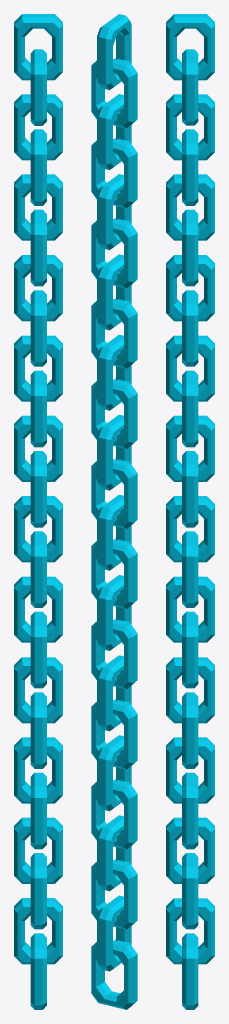
Rendered from chain.fbx.
3 renders of one model, left to right at view 1: azimuth 90°, elevation 25°; view 2: azimuth 150°, elevation 25°; view 3: azimuth 270°, elevation 25°, orthographic.
Parts seen in each view (by area): view 1: c022_low, c002_low, c003_low, c007_low, c009_low, c010_low, c012_low, c014_low, c017_low, c020_low, c005_low, c018_low (+12 smaller); view 2: c1_low, c022_low, c019_low, c004_low, c021_low, c024_low, c006_low, c013_low, c016_low, c008_low, c015_low, c023_low (+12 smaller); view 3: c022_low, c002_low, c003_low, c007_low, c009_low, c010_low, c012_low, c014_low, c017_low, c020_low, c005_low, c018_low (+12 smaller).
Part boxes in pixels (box(x1,y1,x2,y2)): c022_low: box(14, 14, 62, 80); c002_low: box(14, 898, 62, 964); c003_low: box(14, 817, 62, 883); c007_low: box(14, 657, 62, 723); c009_low: box(14, 576, 62, 642); c010_low: box(14, 496, 62, 562); c012_low: box(14, 415, 62, 481); c014_low: box(14, 335, 62, 401); c017_low: box(14, 255, 62, 321); c020_low: box(14, 94, 62, 160); c005_low: box(14, 737, 62, 803); c018_low: box(14, 174, 62, 240); c1_low: box(91, 940, 137, 1009); c022_low: box(97, 14, 131, 90); c019_low: box(91, 218, 137, 288); c004_low: box(91, 860, 137, 929); c021_low: box(91, 138, 137, 208); c024_low: box(91, 299, 137, 368); c006_low: box(91, 780, 137, 849); c013_low: box(91, 459, 137, 528); c016_low: box(91, 619, 137, 689); c008_low: box(91, 700, 137, 769); c015_low: box(91, 379, 137, 448); c023_low: box(91, 59, 137, 128); c022_low: box(166, 14, 214, 80); c002_low: box(166, 898, 214, 964); c003_low: box(166, 817, 214, 883); c007_low: box(166, 657, 214, 723); c009_low: box(166, 576, 214, 642); c010_low: box(166, 496, 214, 562); c012_low: box(166, 415, 214, 481); c014_low: box(166, 335, 214, 401); c017_low: box(166, 255, 214, 321); c020_low: box(166, 94, 214, 160); c005_low: box(166, 737, 214, 803); c018_low: box(166, 174, 214, 240).
Bounding box in the file's own units: 7.39 × 165 × 7.39.
